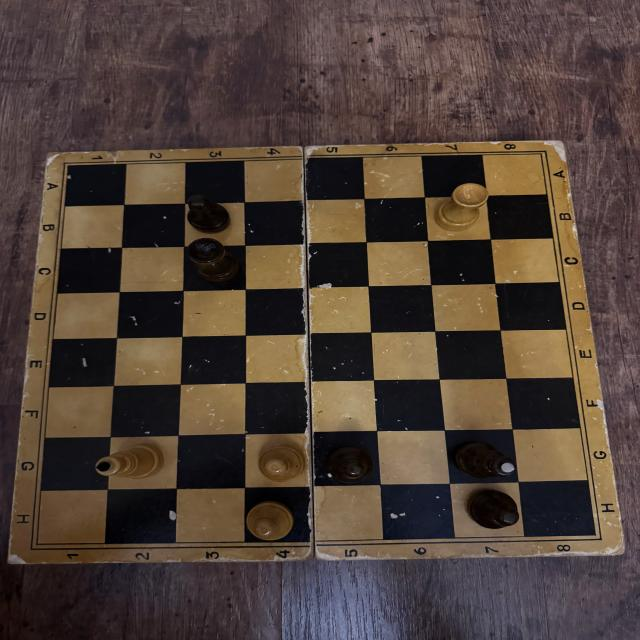black-king: (452, 439, 517, 481)
black-pawn: (468, 488, 522, 530), (325, 444, 376, 484), (186, 194, 232, 234)
black-rook: (184, 237, 242, 283)
white-king: (90, 442, 166, 480)
white-pawn: (247, 502, 294, 542), (256, 446, 307, 482)
white-rook: (437, 184, 487, 233)
